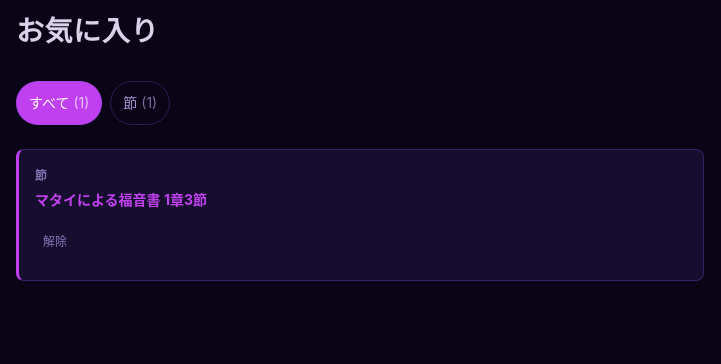
it: BookmarksPage › 削除後はカードを一覧から外し、取り消し導線を表示する
expect the text "マタイによる福音書 1章3節" is shown: met, box [35,191,207,208]
Click the button "解除".
click(55, 242)  # box [35,220,75,264]
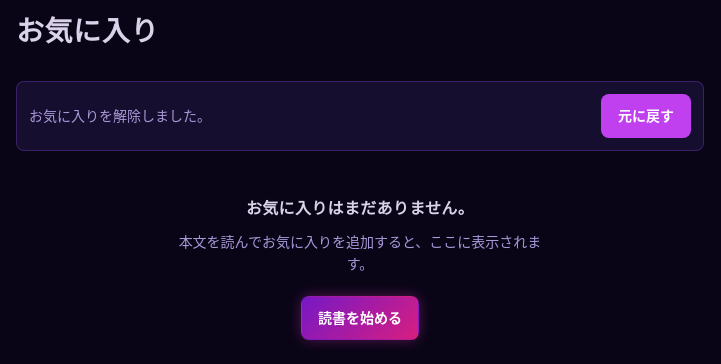
expect the text "お気に入りを解除しました。" is shown: met, box [29,105,211,127]
expect the link "マタイによる福音書" is gone: met
expect the button "元に戻す" is shown: met, box [601,94,691,138]
